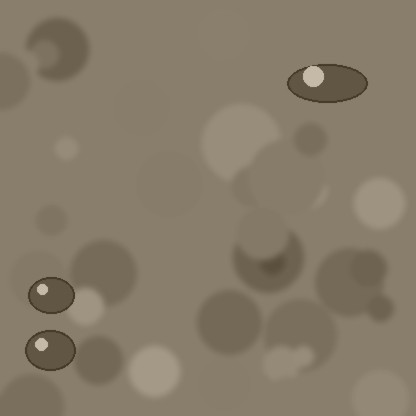gota: (287, 65, 367, 105), (25, 332, 75, 374), (28, 278, 74, 316)
